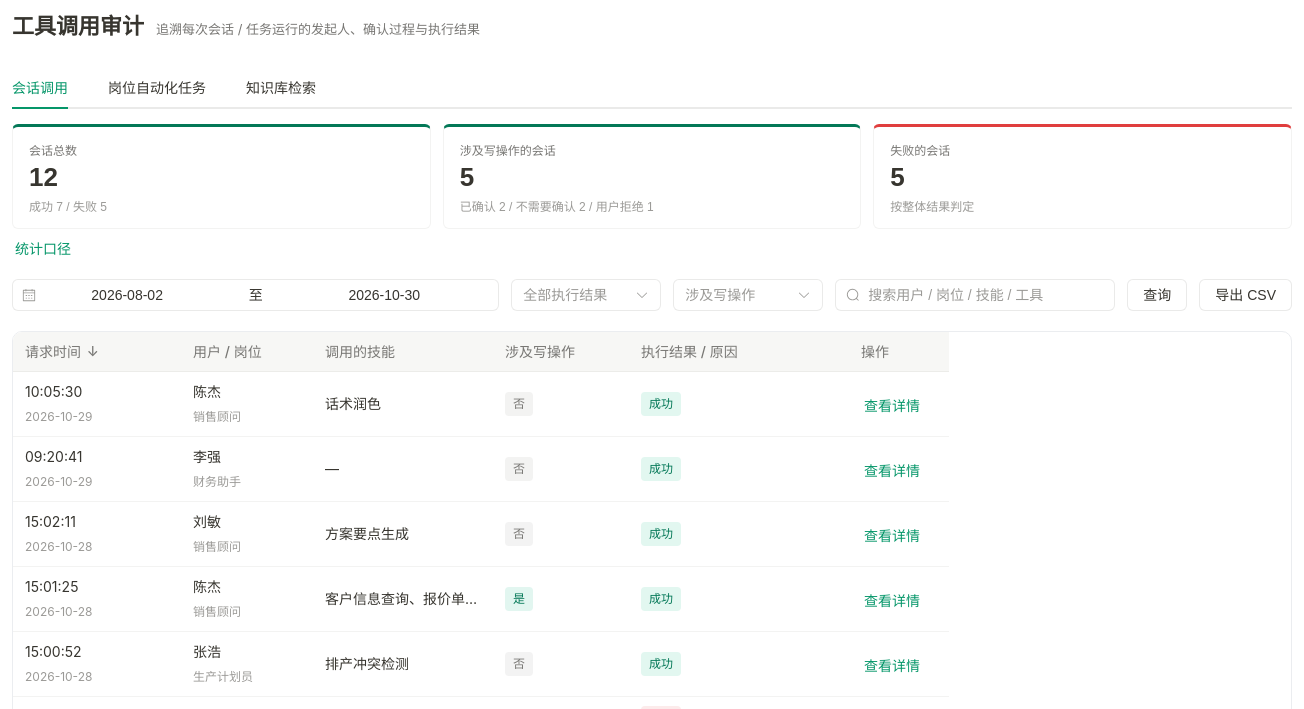
Test: 列表（§四） › 列字段：技能、涉及写操作、执行结果 / 原因齐全；失败行展示原因概要；不展示耗时（系统不采集）
The image size is (1304, 709).
Type "生产数据查询" into the field with placeholder "搜索用户 / 岗位 / 技能 / 工具" at x=986, y=295, box top-left (868, 280), bottom-right (1104, 310)
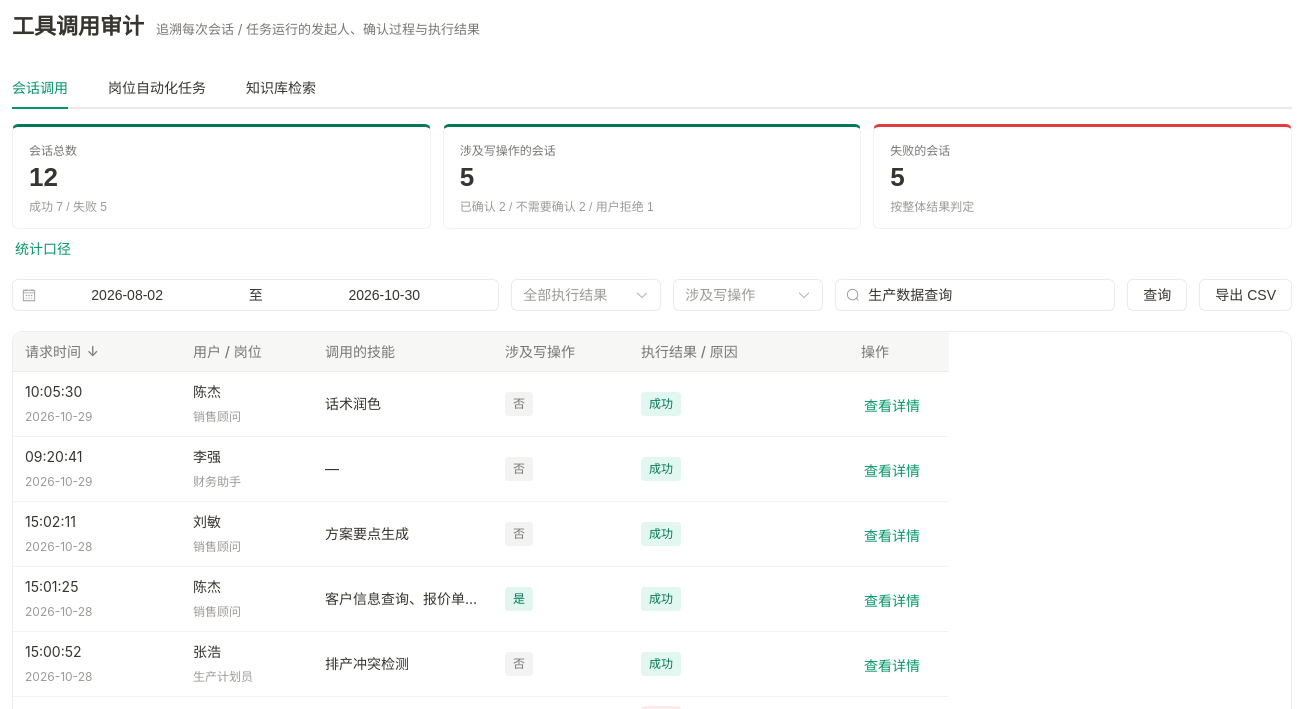
Press Enter in the field with placeholder "搜索用户 / 岗位 / 技能 / 工具", box top-left (868, 280), bottom-right (1104, 310)
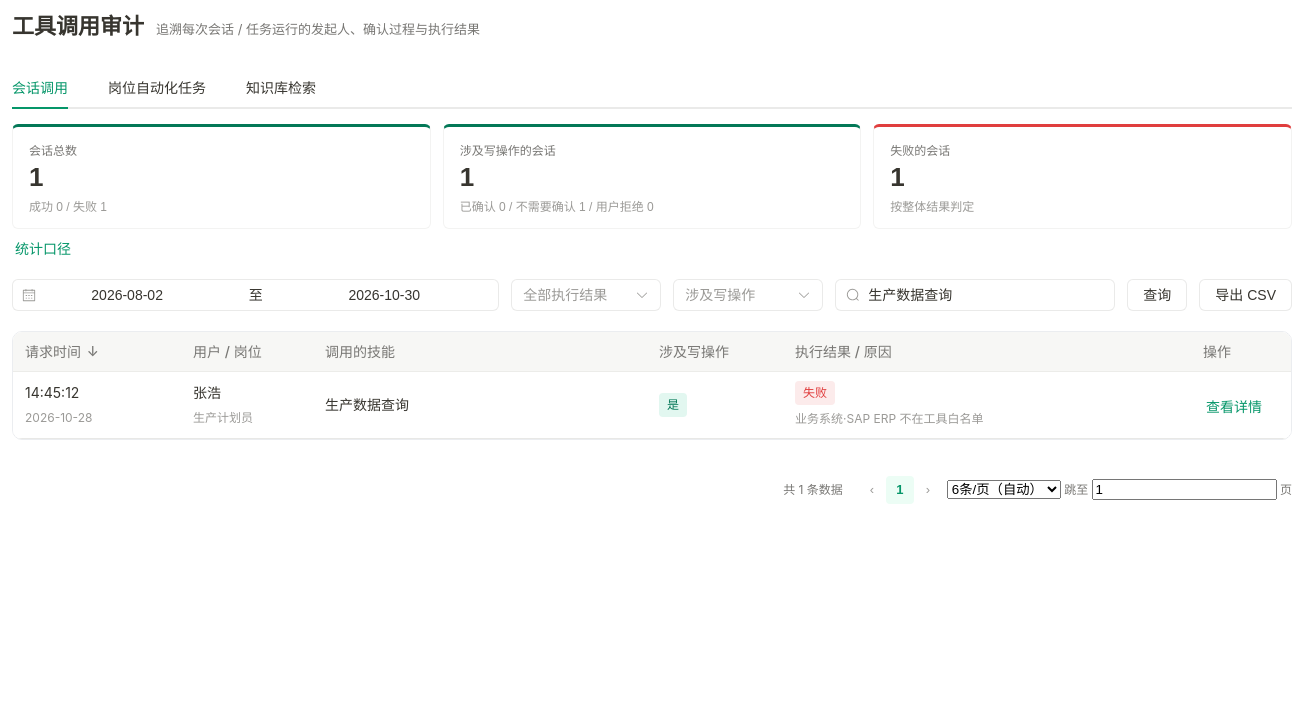
Expected: the row that starts with "生产计划员" shows "是", top-left (667, 398), bottom-right (679, 412)
Expected: the row that starts with "生产计划员" shows "失败", top-left (803, 385), bottom-right (827, 400)
Expected: the row that starts with "生产计划员" shows "业务系统·SAP ERP 不在工具白名单", top-left (795, 411), bottom-right (984, 426)
